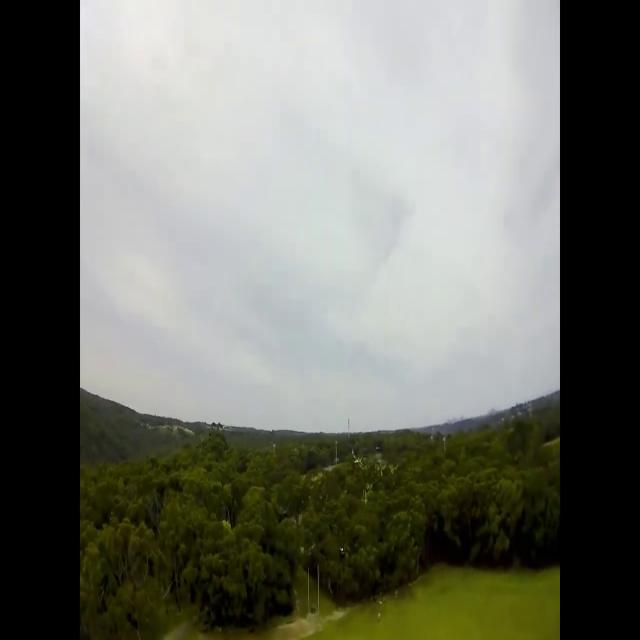iha: (348, 441, 364, 462)
